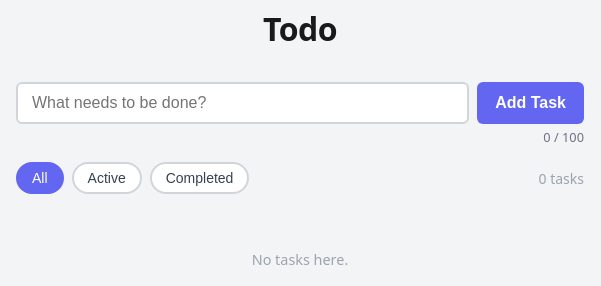
Scenario: Todo App › saves an edited task when Enter is pressed
The width and height of the screenshot is (601, 286).
In the field named "New task": (243, 103) [16, 82, 469, 124], type "Buy milk"
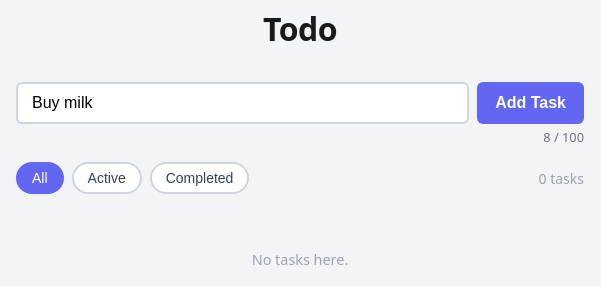
Click the button "Add Task": click(531, 103) [477, 82, 584, 124]
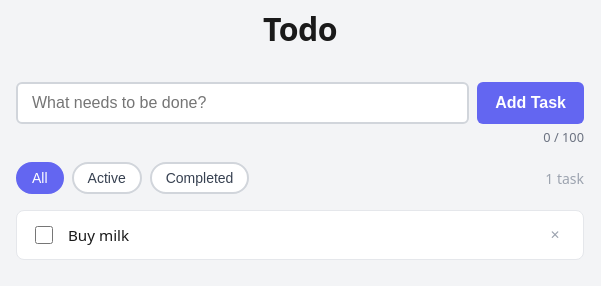
Double-click the text "Buy milk": (99, 235) [68, 225, 129, 245]
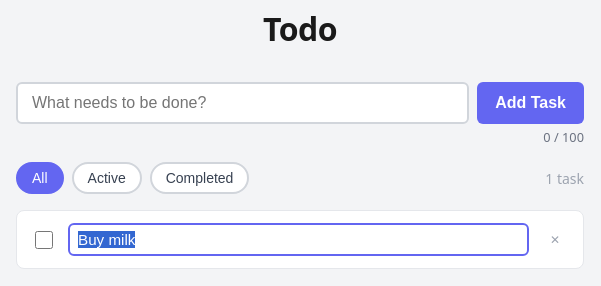
Replace the text in the field named "Edit \"Buy milk\"" with "Buy oat milk": (298, 240) [68, 223, 529, 256]
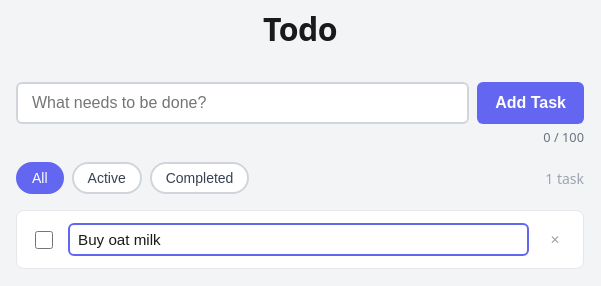
Press Enter in the field named "Edit \"Buy milk\"", box [68, 223, 529, 256]
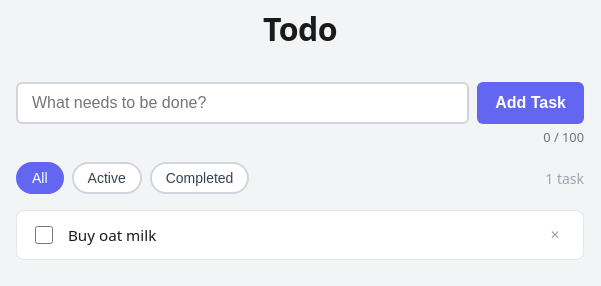
Expected: the text "Buy milk" is not shown
Expected: the text "Buy oat milk" is shown, [68, 225, 156, 245]
